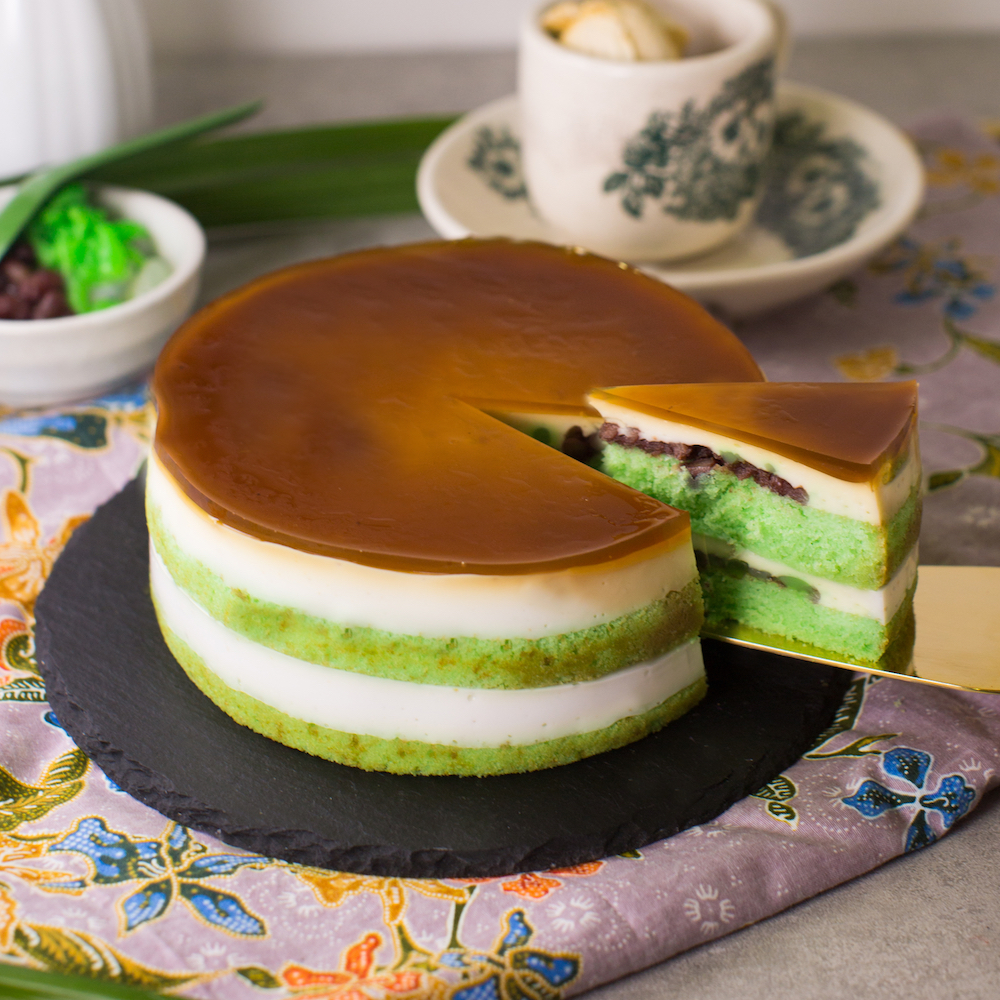Chendol: (0, 126, 226, 347)
